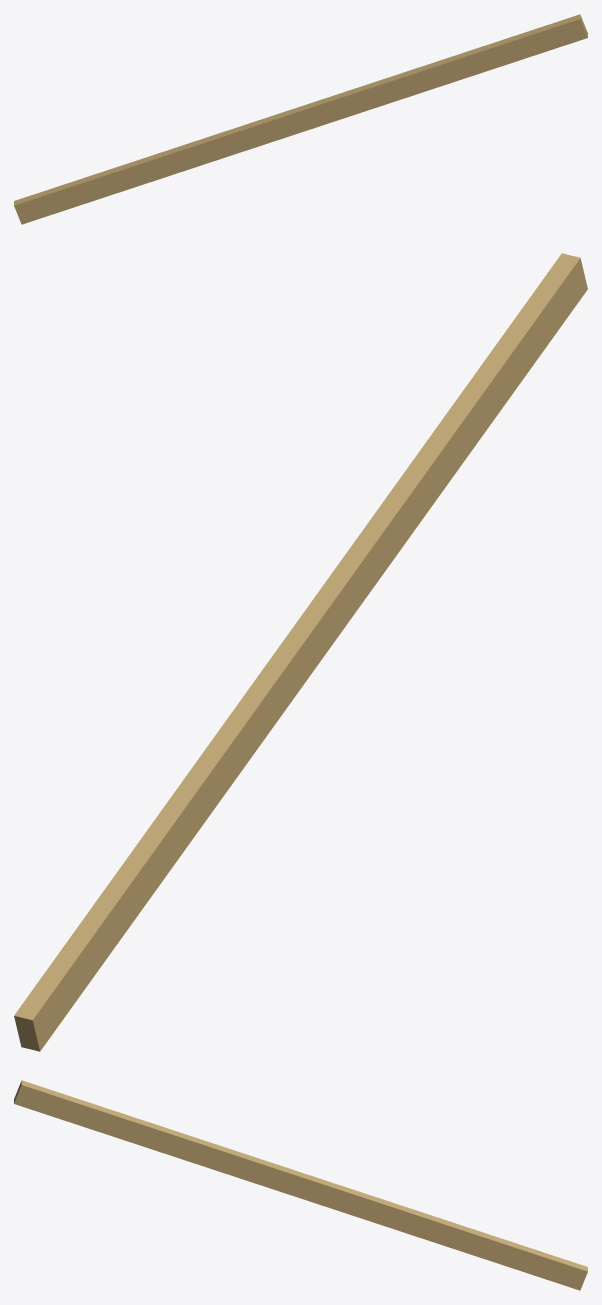
3 views of the same model, one above another, from view 1: azimuth 90°, elevation 25°; view 2: azimuth 150°, elevation 25°; view 3: azimuth 270°, elevation 25° (orthographic). The views are drawn at different scales.
Visible parts, largest first — view 1: L1-3-S12-328-M02; view 2: L1-3-S12-328-M02; view 3: L1-3-S12-328-M02.
Boxes of the visible parts, box(x1,y1,x2,y2) form: L1-3-S12-328-M02: box(14, 14, 587, 224); L1-3-S12-328-M02: box(14, 253, 587, 1051); L1-3-S12-328-M02: box(14, 1080, 587, 1290).
Bounding box in the file's own units: 0.045 × 0.9149 × 2.31.
